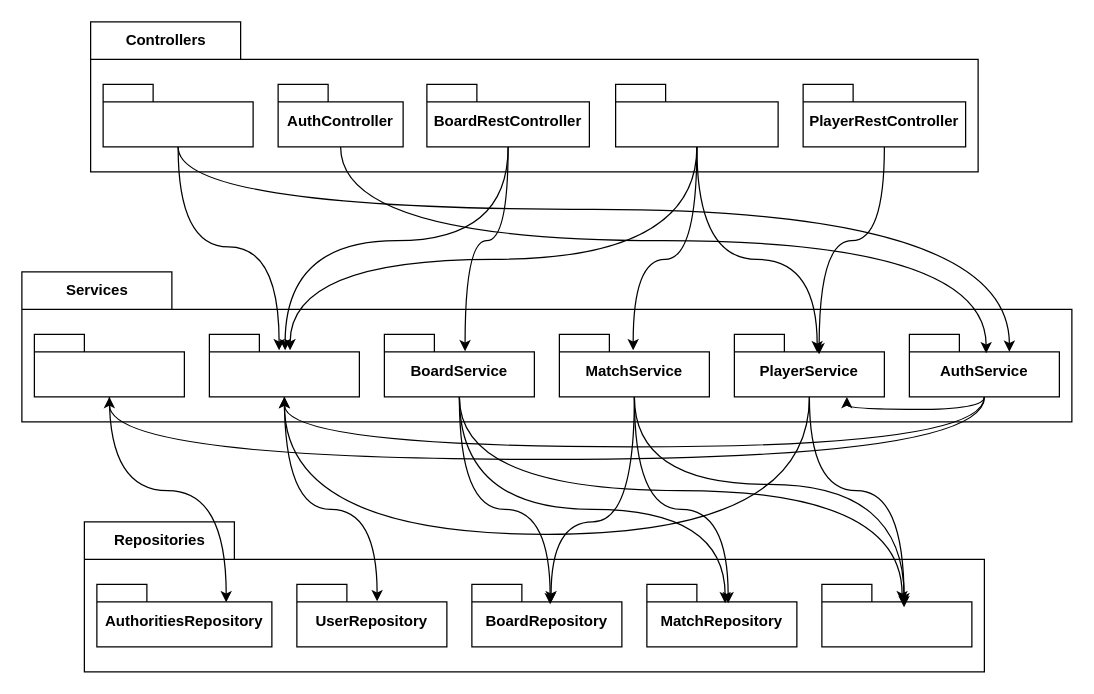
The diagram is 1094 pixels wide and 694 high, and some of its shapes have lost their labels. Here are the shapes that lost their labels. From the top down, the centre of each, then its label:
At [177,115]: "UserRestController".
At [696,115]: "MatchRestController".
At [108,365]: "AuthoritiesService".
At [283,365]: "UserService".
At [896,615]: "PlayerRepository".
